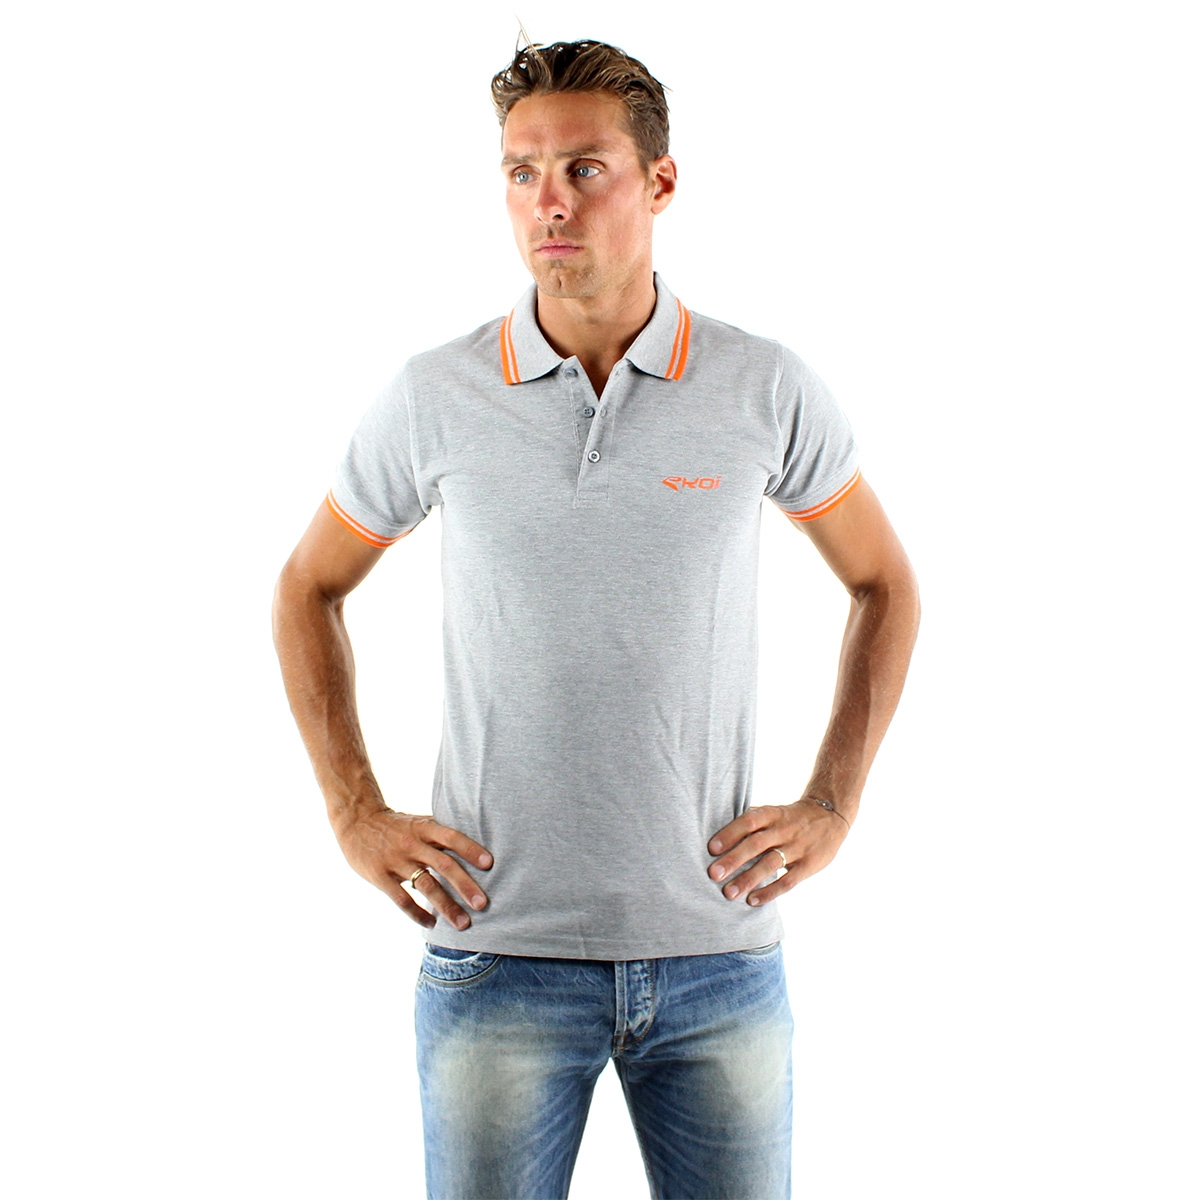NOTSAFE: (420, 34, 781, 932)
